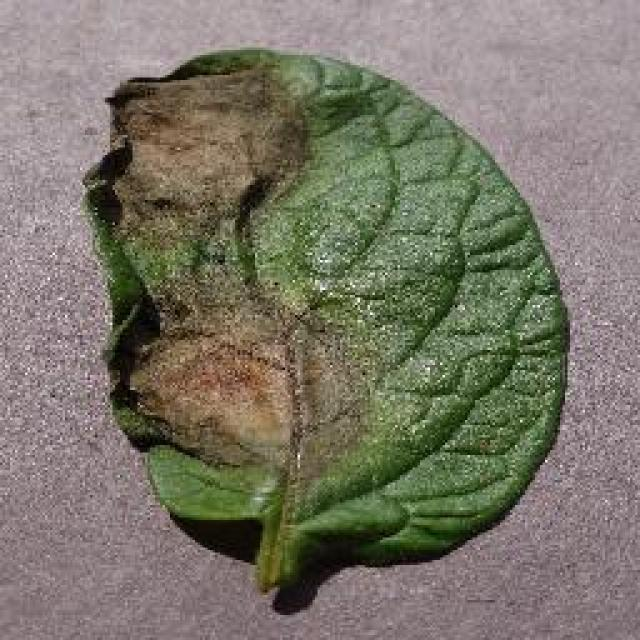late_blight: (78, 42, 572, 600)
